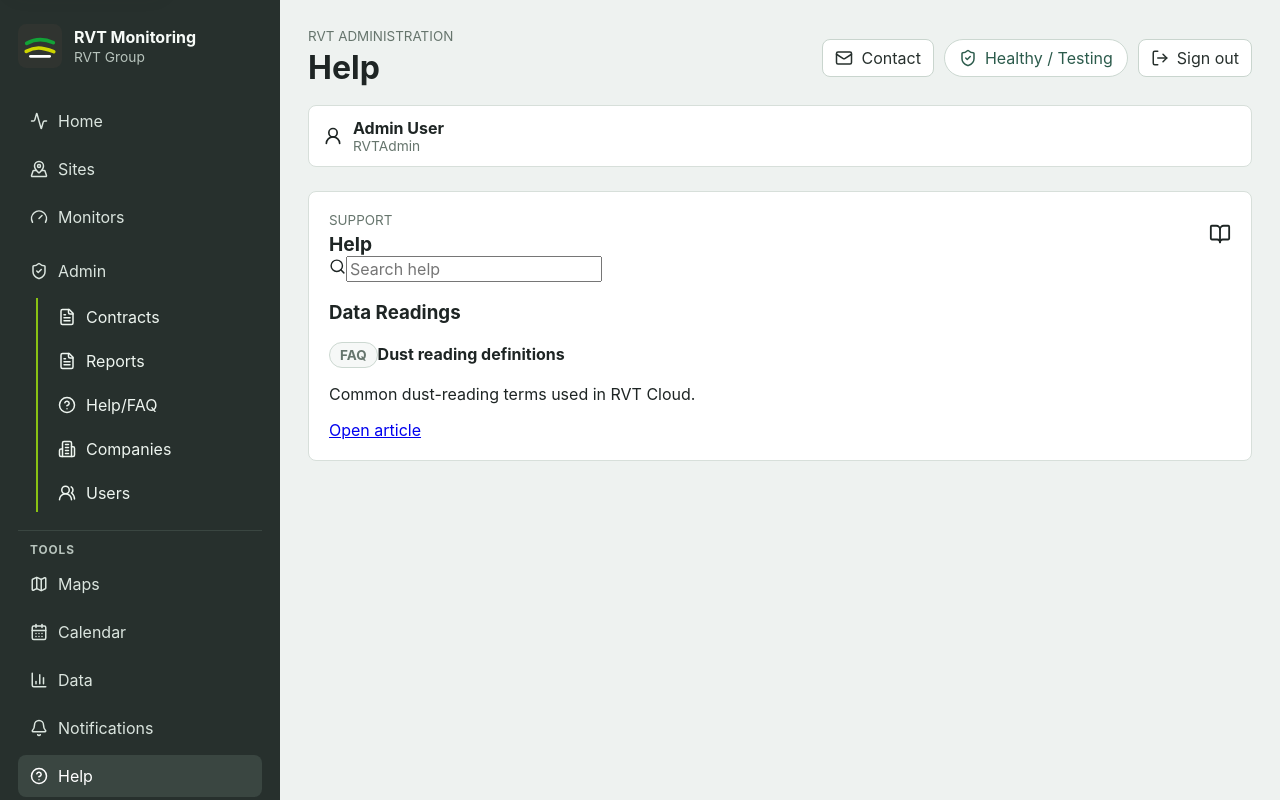
it: App › renders the Help page with FAQ articles and asset links
The width and height of the screenshot is (1280, 800).
Check: the heading "Help" below "RVT administration" is shown, box 308,48 -> 380,87
Check: the heading "Data Readings" is shown, box 329,301 -> 461,324
Click the link "Open article": (375, 430) 329,420 -> 421,440
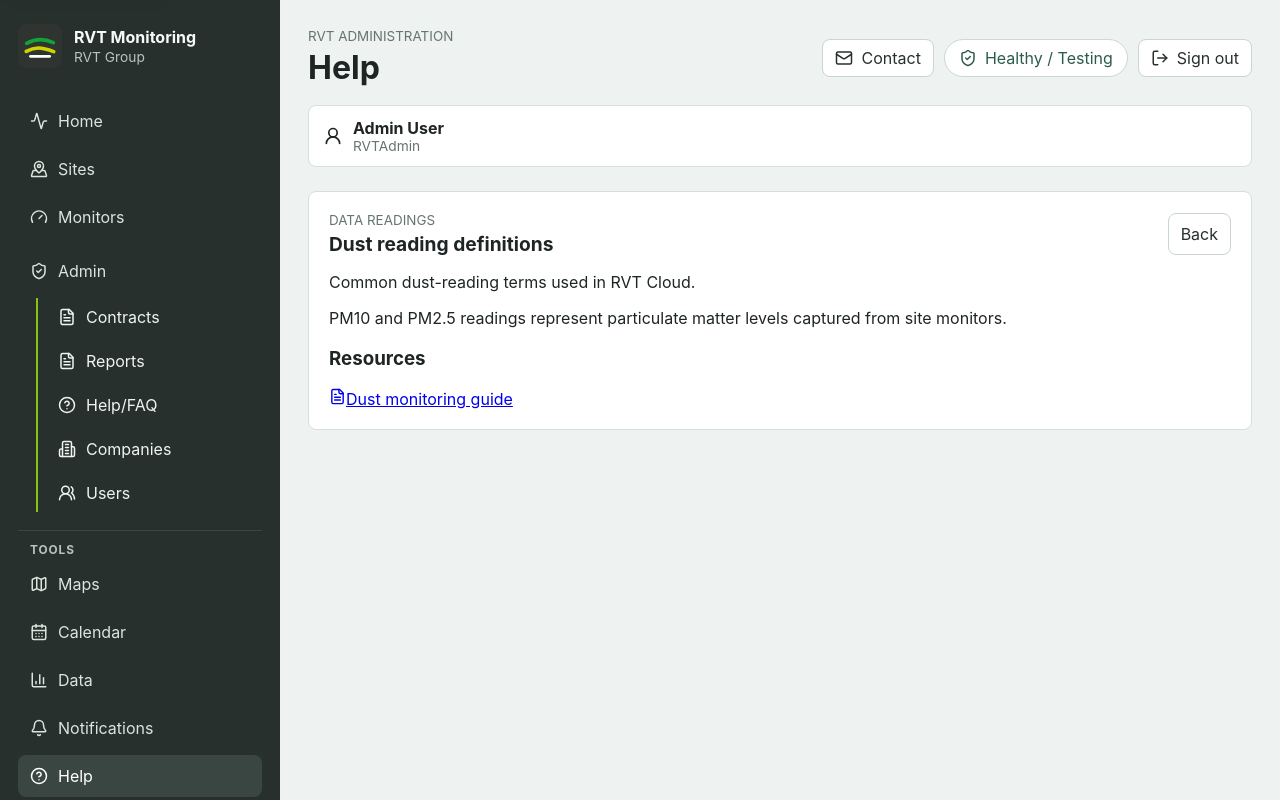
Check: the heading "Dust reading definitions" is shown, box 329,232 -> 554,256
